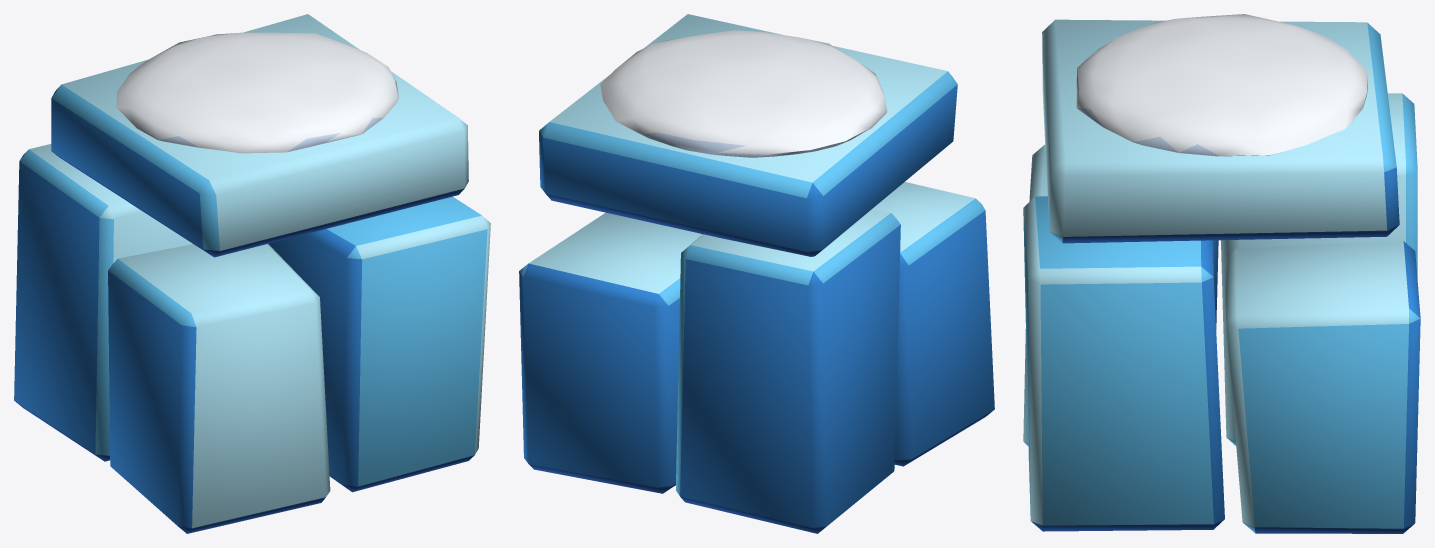
File: IceBlock.fbx
The picture shows the model from 3 angles, left to right: view 1: azimuth 30°, elevation 25°; view 2: azimuth 150°, elevation 25°; view 3: azimuth 270°, elevation 25°; orthographic projection. The views are drawn at different scales.
Visible parts, largest first — view 1: IceBlock; view 2: IceBlock; view 3: IceBlock.
Boxes of the visible parts, left/top/right/bottom form: IceBlock: left=14, top=14, right=490, bottom=533; IceBlock: left=519, top=14, right=994, bottom=533; IceBlock: left=1023, top=14, right=1420, bottom=533.
Bounding box in the file's own units: 1.51 × 1.7 × 1.5.
Materials: 1 (1 with a texture image).
